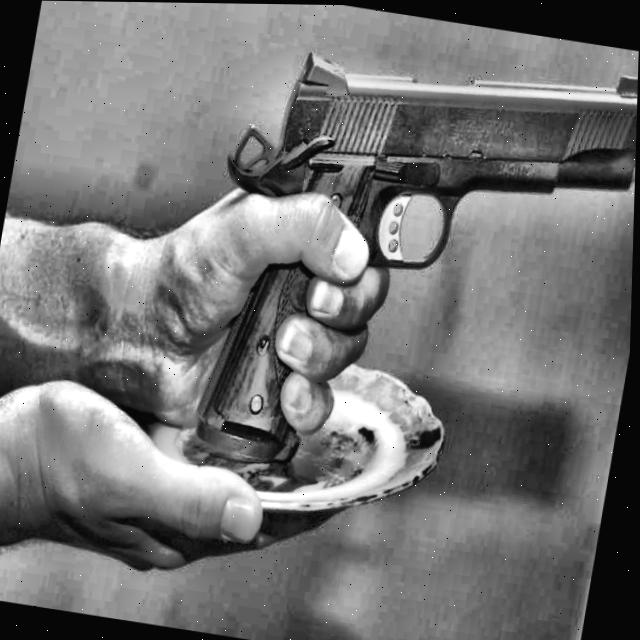pistol: (172, 3, 640, 524)
